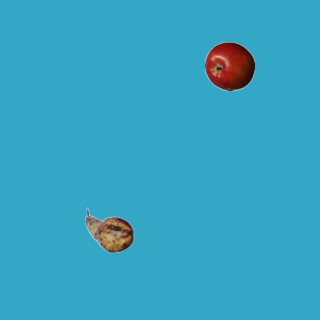Apple Braeburn: (204, 41, 254, 91)
Pear Abate: (84, 205, 134, 255)
